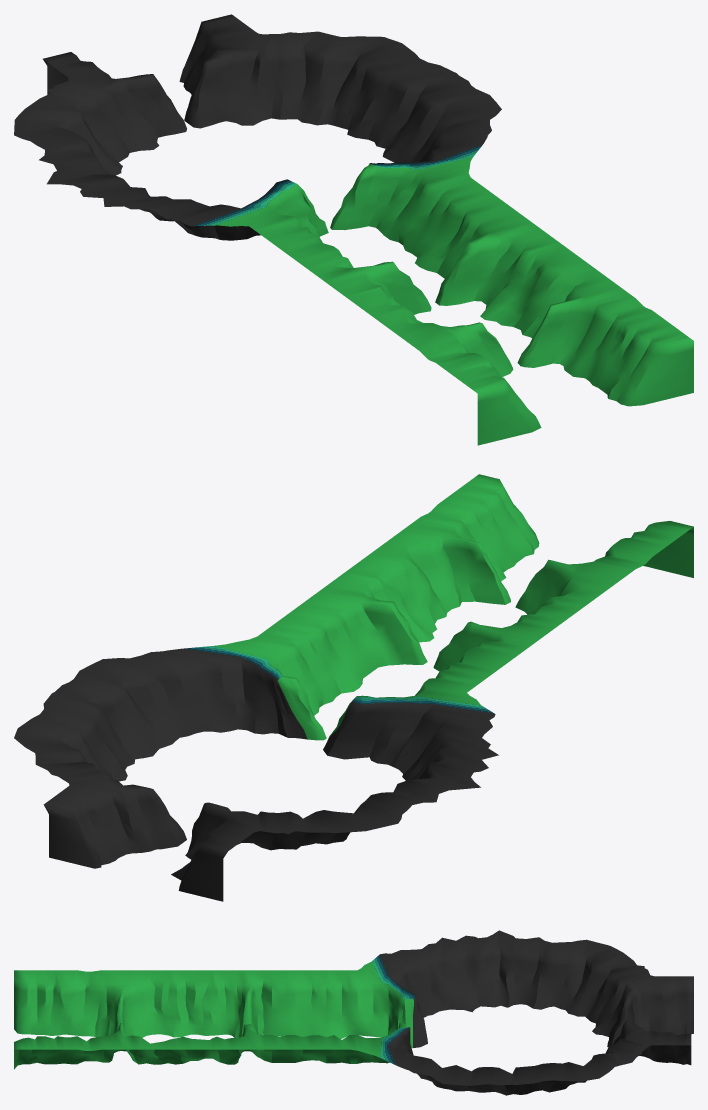
The model's file is montagnes.collisions.glb.
3 views of the same model, one above another, from view 1: azimuth 30°, elevation 25°; view 2: azimuth 150°, elevation 25°; view 3: azimuth 270°, elevation 25° (orthographic). The views are drawn at different scales.
Parts seen in each view (by area): view 1: montagnes.collision.all-colonly; view 2: montagnes.collision.all-colonly; view 3: montagnes.collision.all-colonly.
Part boxes in pixels (x1,y1,x2,y2): montagnes.collision.all-colonly: (14,14,693,445); montagnes.collision.all-colonly: (14,474,693,901); montagnes.collision.all-colonly: (14,930,693,1095).
Size of the model in its own units: 292 by 34.68 by 540.
1 material, 1 textured.
